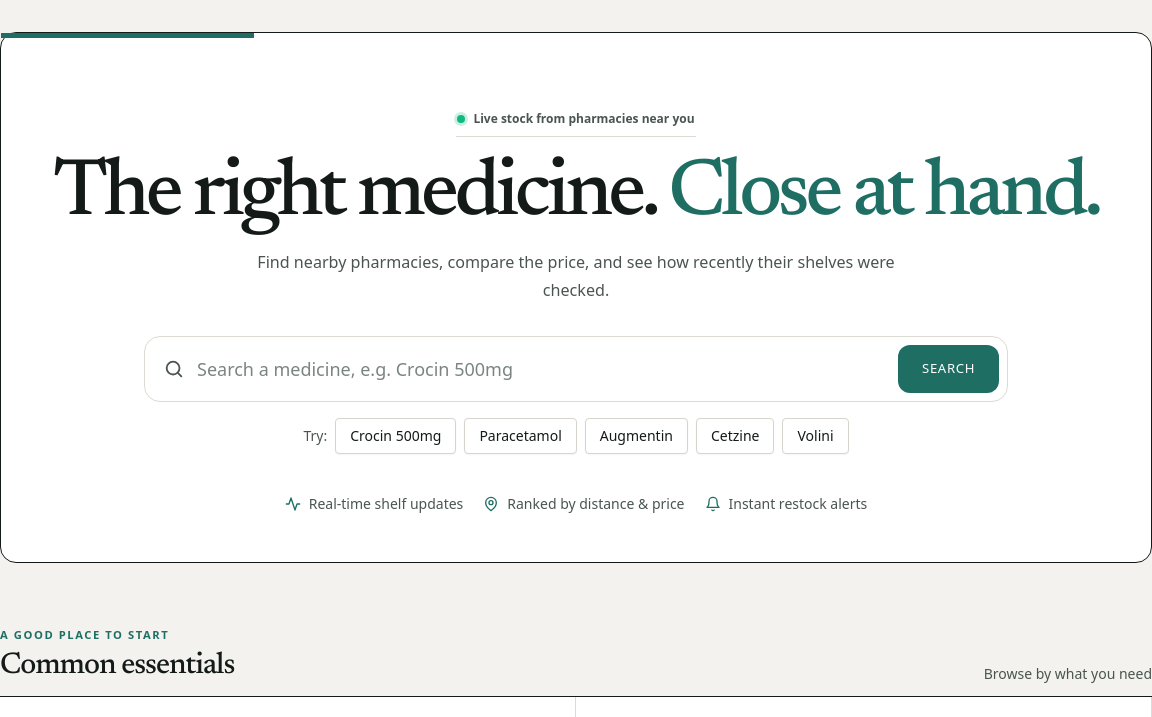
Scenario: SearchPage without a query › will not search an empty box, and says why
The width and height of the screenshot is (1152, 717).
Click the button "Search".
click(948, 369)  # box [898,345,999,393]
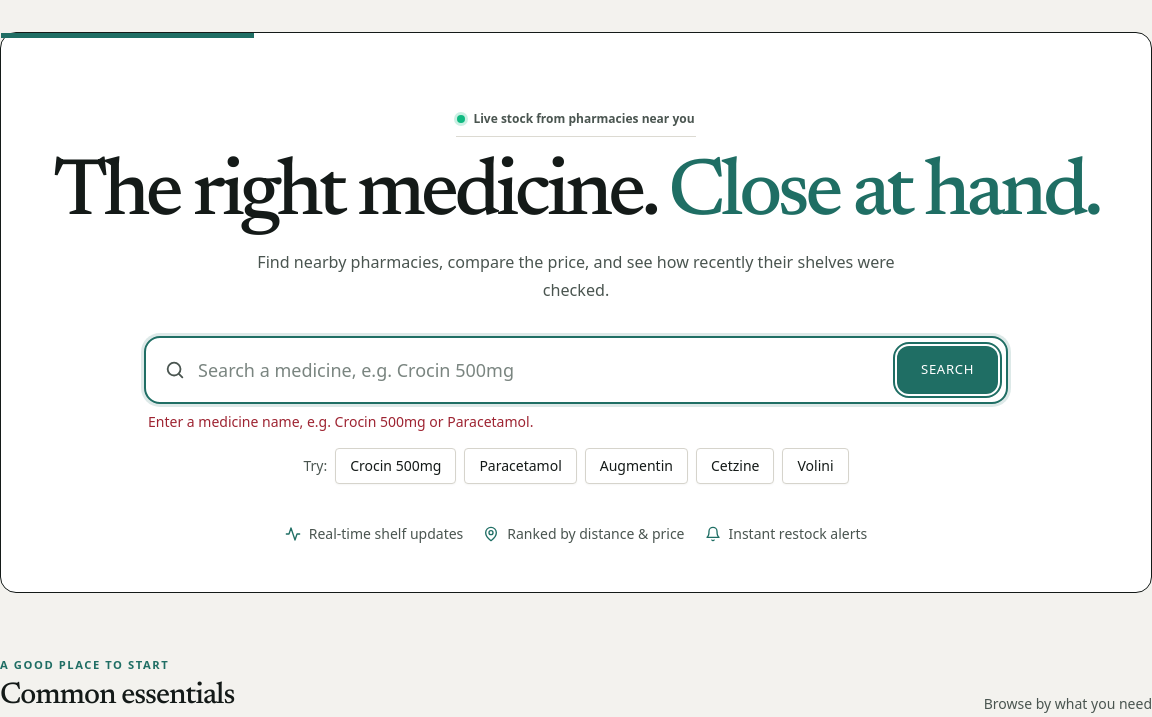
Check: the message shows "Enter a medicine name", box [148,412,533,431]
